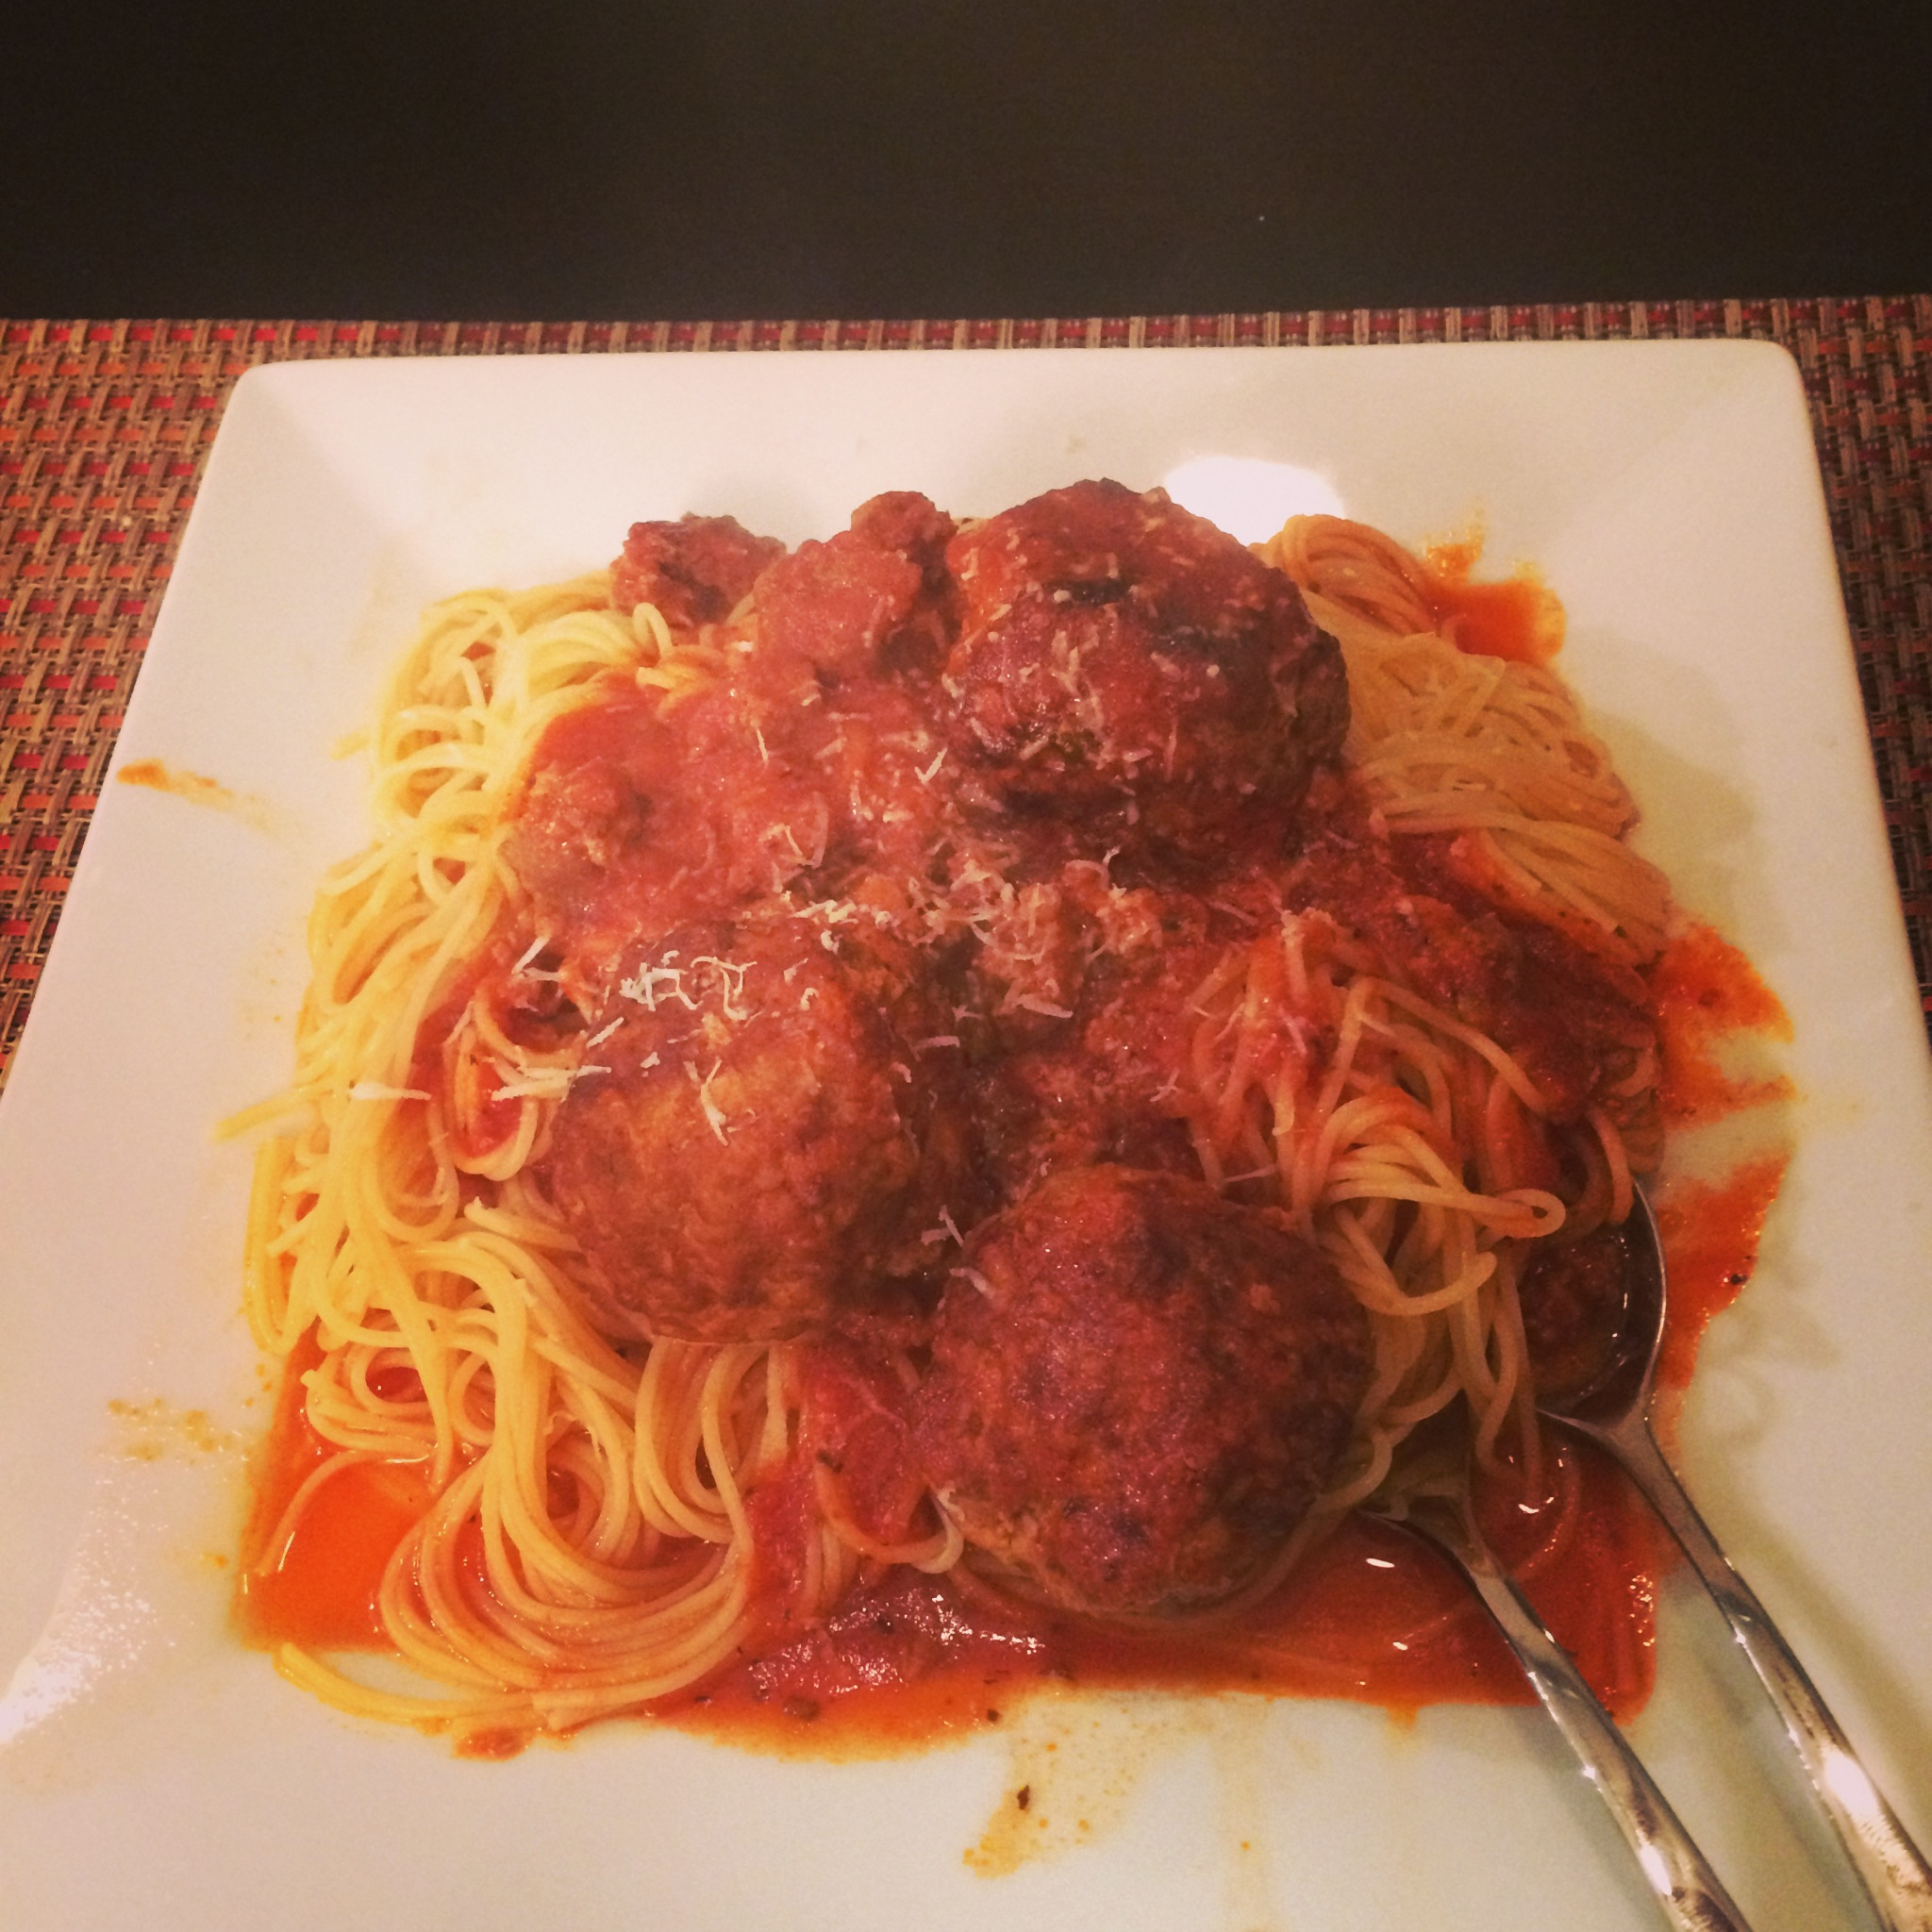meatballs: (945, 1203, 1345, 1596), (568, 955, 954, 1325), (959, 479, 1345, 821)
plain spaghetti: (308, 609, 752, 1665), (1311, 557, 1651, 1509)
